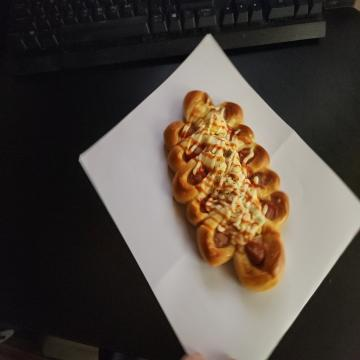pizza_bread: (160, 92, 288, 294)
